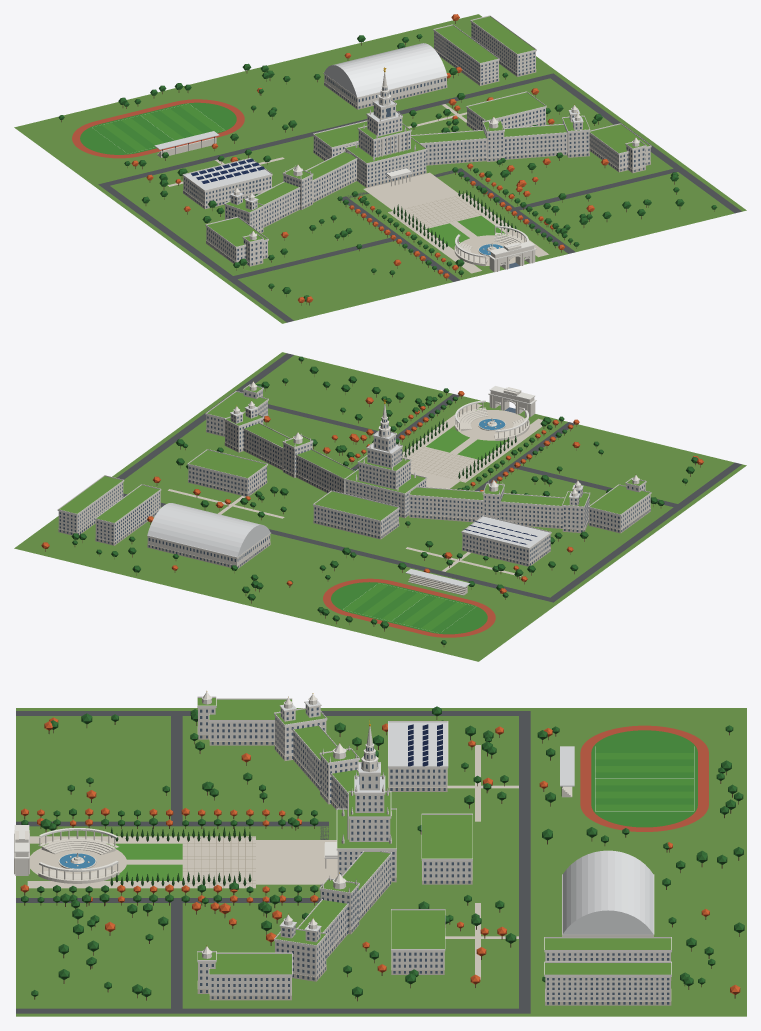
The model's file is vinuni_campus.glb.
The picture shows the model from 3 angles, top to bottom: view 1: azimuth 30°, elevation 25°; view 2: azimuth 150°, elevation 25°; view 3: azimuth 270°, elevation 25°; orthographic projection. The views are drawn at different scales.
Visible parts, largest first — view 1: Grounds, CampusBuildings, Wings, Plaza_Gate, CentralTower; view 2: Grounds, CampusBuildings, Wings, Plaza_Gate, CentralTower; view 3: Grounds, CampusBuildings, Wings, Plaza_Gate, CentralTower.
Boxes of the visible parts, bbox=[...] form: Grounds: bbox=[14, 14, 746, 323]; CampusBuildings: bbox=[42, 15, 546, 209]; Wings: bbox=[205, 104, 651, 266]; Plaza_Gate: bbox=[363, 172, 548, 273]; CentralTower: bbox=[344, 67, 427, 187]; Grounds: bbox=[14, 352, 746, 661]; CampusBuildings: bbox=[57, 449, 551, 650]; Wings: bbox=[205, 381, 651, 539]; Plaza_Gate: bbox=[402, 386, 542, 488]; CentralTower: bbox=[344, 399, 427, 518]; Grounds: bbox=[16, 706, 746, 1016]; CampusBuildings: bbox=[388, 720, 720, 1005]; Wings: bbox=[197, 691, 472, 1000]; Plaza_Gate: bbox=[14, 825, 337, 888]; CentralTower: bbox=[324, 719, 396, 882].
Bounding box in the file's own units: 500 × 108 × 501.
